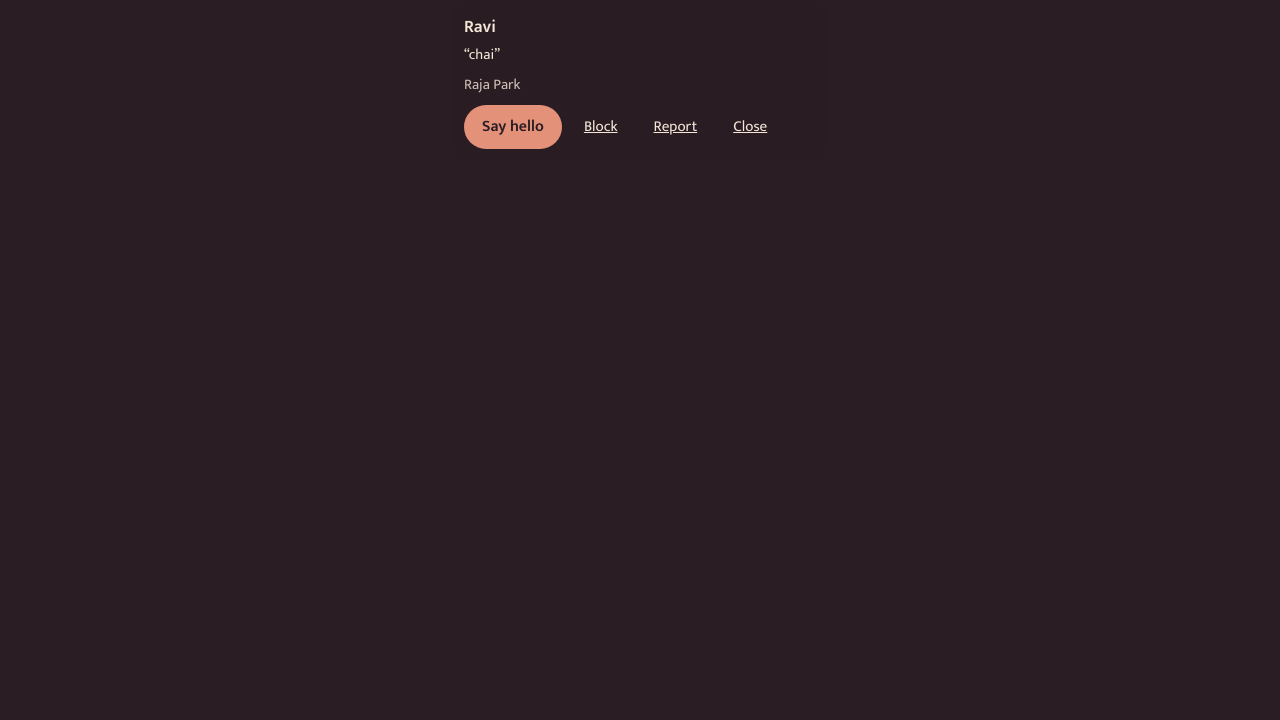
Scenario: PersonCard: Block asks in the sheet first, and blocks only on the yes
Later steps or results of the test are not shown.
Click the button "Block".
click(601, 127)  # box top-left (570, 105), bottom-right (632, 149)
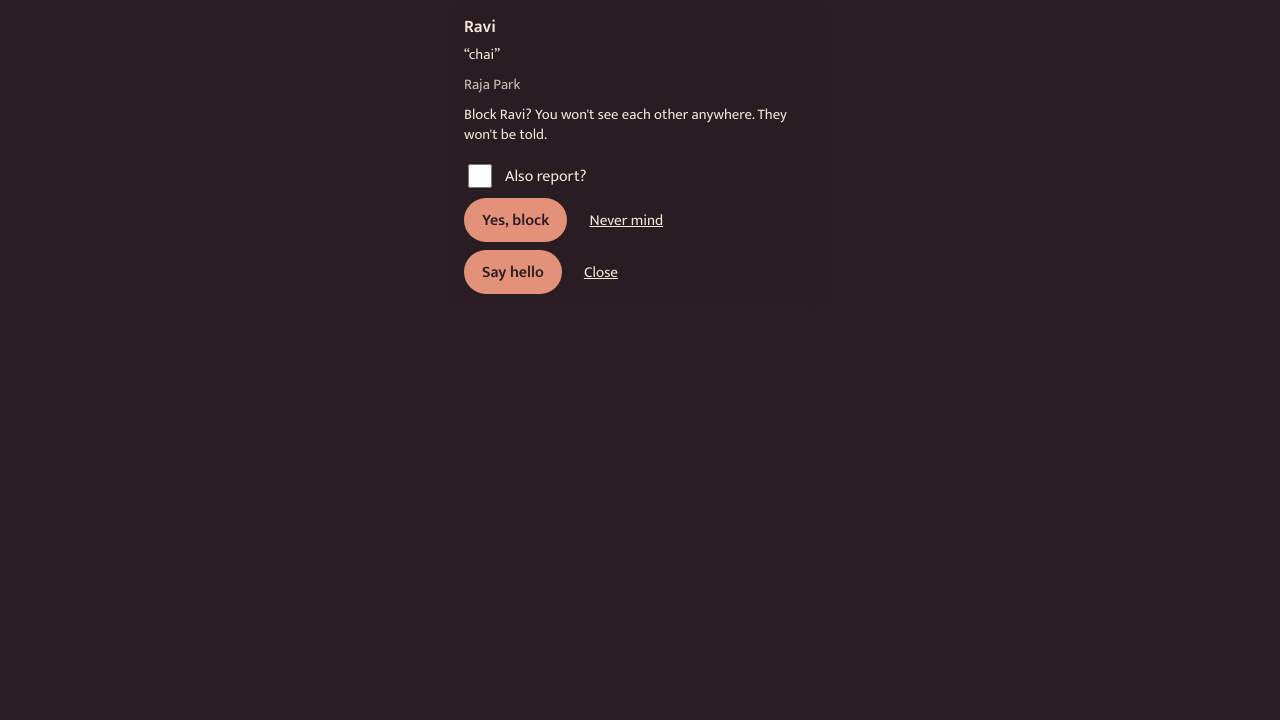
Expected: the dialog shows "Block Ravi? You won't see each other", top-left (464, 102), bottom-right (787, 147)
Click the button "Never mind".
click(626, 220)  # box top-left (575, 198), bottom-right (677, 242)
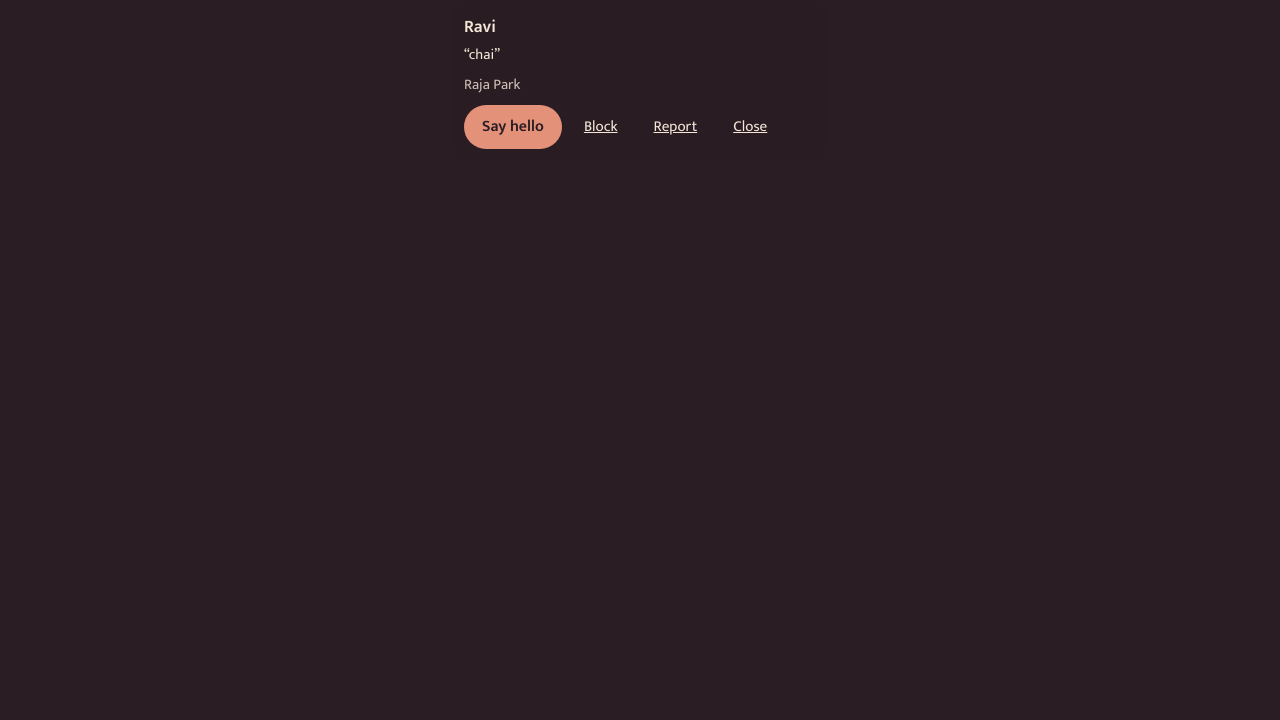
Expected: the dialog is gone
